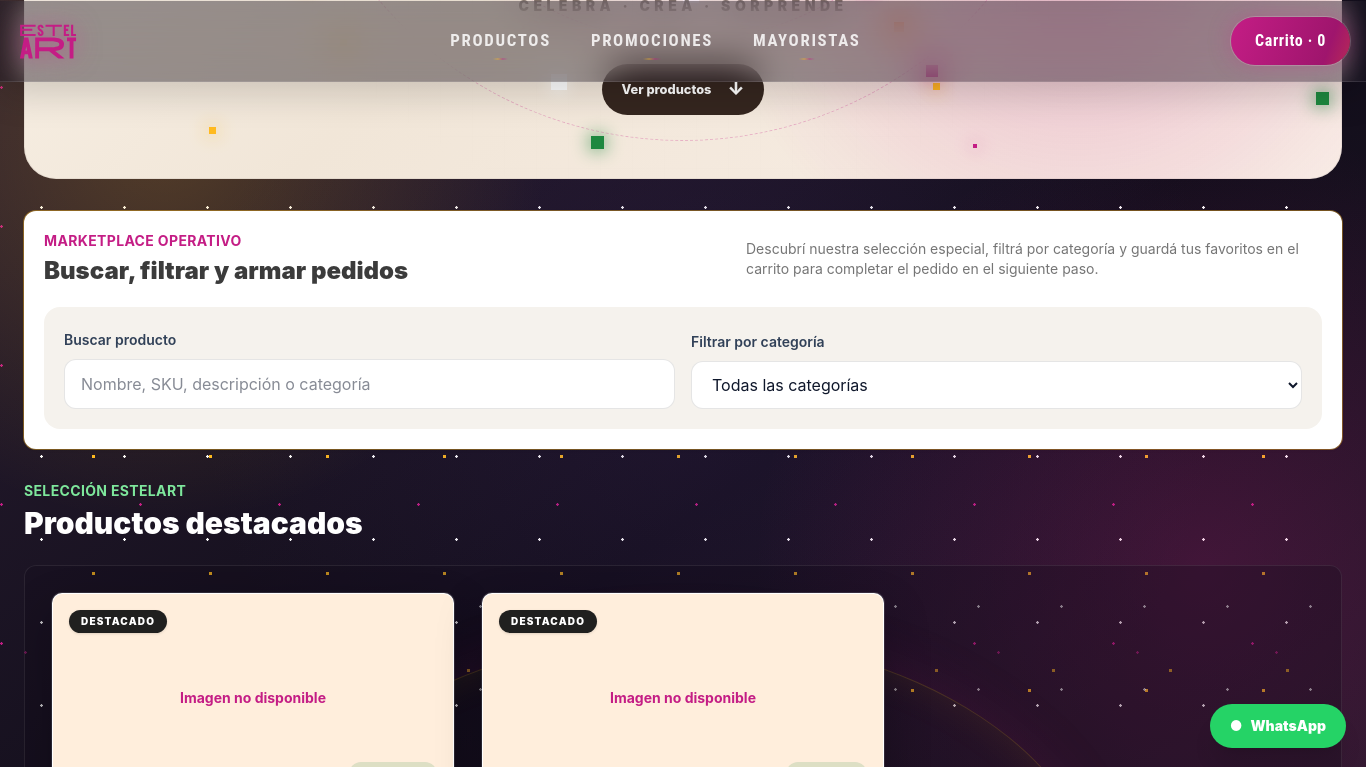
Test case: App › deberia buscar productos por texto
(page scrolled)
Expected: the text "Resultados" is not shown
Type "SLI-001" into the search field labelled "Buscar producto".
click(370, 384); type("SLI-001")  # box [64,360,675,410]
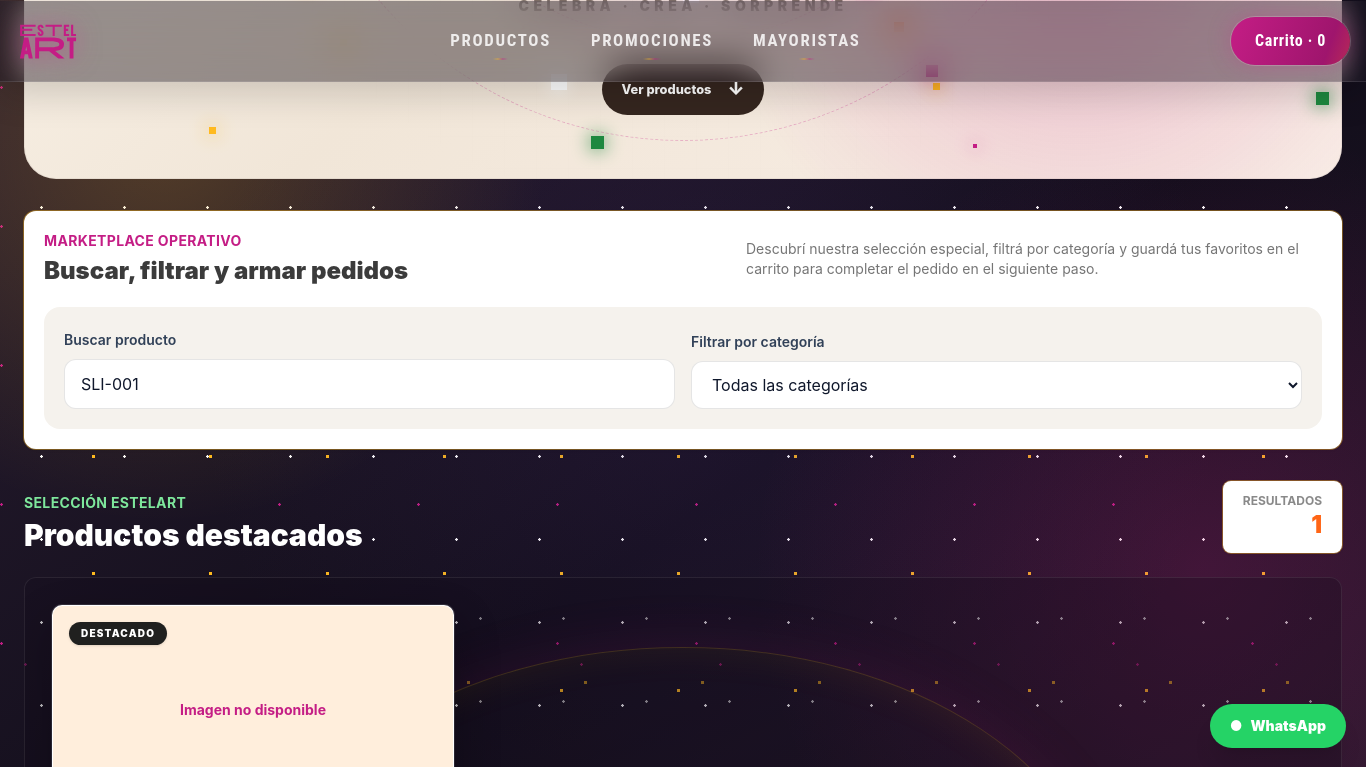
Now the text "Resultados" is shown, box [1243,494,1322,510]
